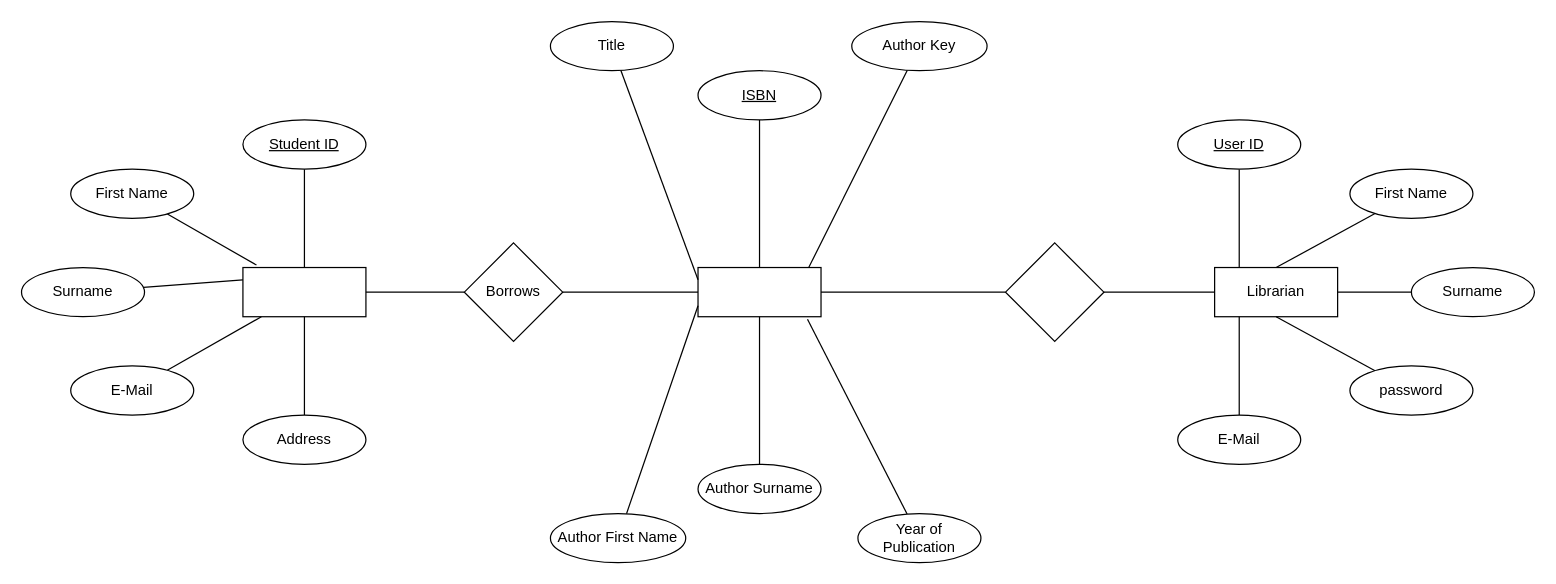
Image size: 1556x584. Some labels were removed from this diagram. Each missing label, with the centre of its shape:
Book: [759,291]
issues: [1054,291]
Student: [304,291]
